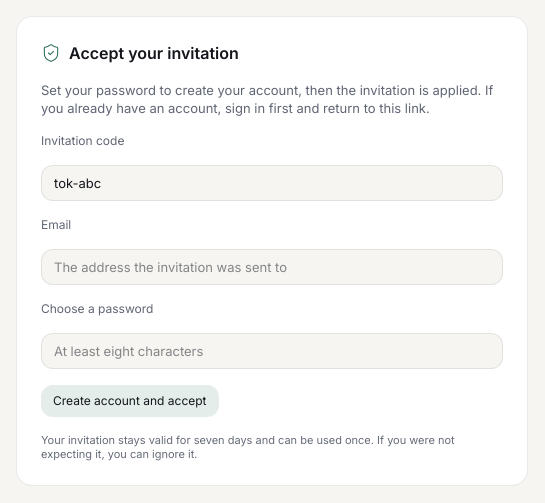
OA-20 member invitation acceptance (C2.4) › creates the account, accepts the invitation and reports success
The image size is (545, 503).
Type "new.person@example.test" into the field with test id "oa-accept-email" at (272, 267), box [41,249,503,285]
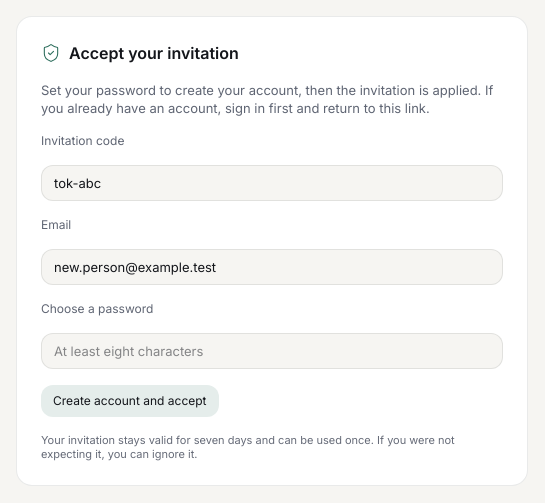
Type "a-long-enough-password" into the password field with test id "oa-accept-password" at (272, 351), box [41,333,503,369]
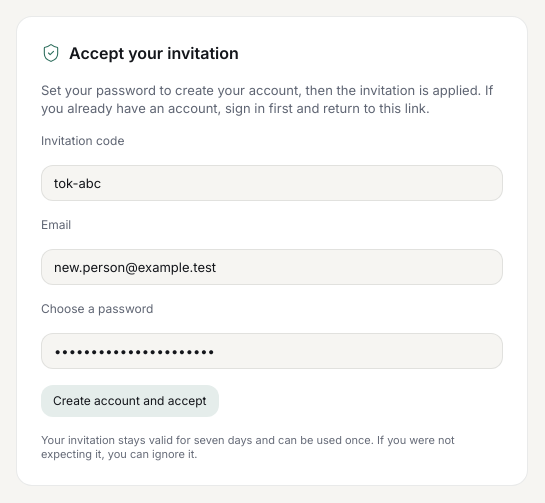
Click the button with test id "oa-accept-submit" at (130, 401), box [41,385,218,417]
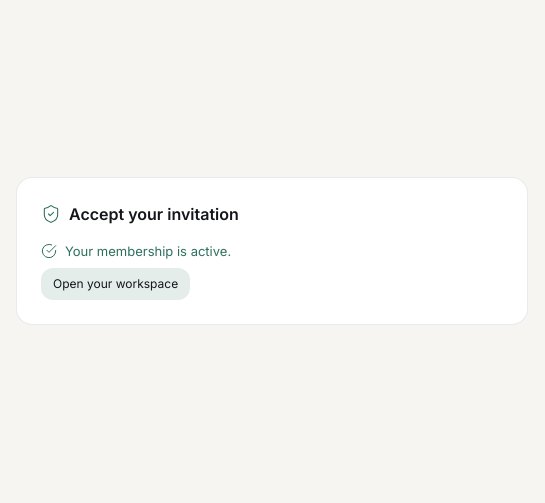
Now the element with test id "oa-accept-done" is shown, box [41,243,231,300]
